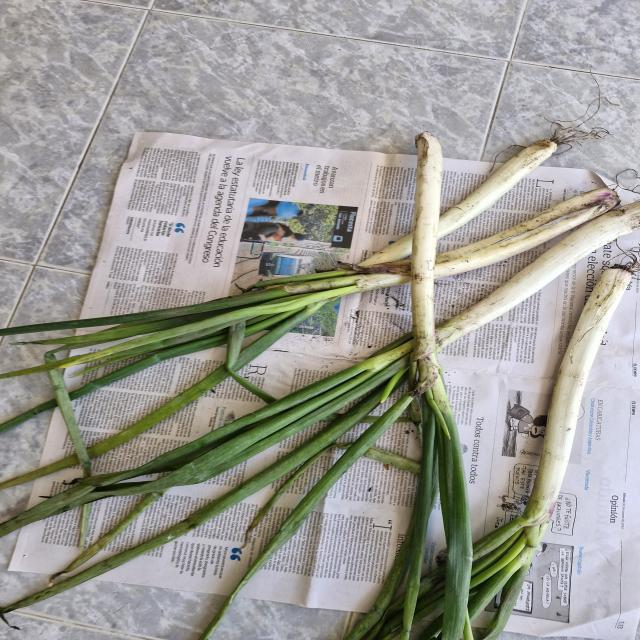green_onion: (407, 127, 487, 640)
